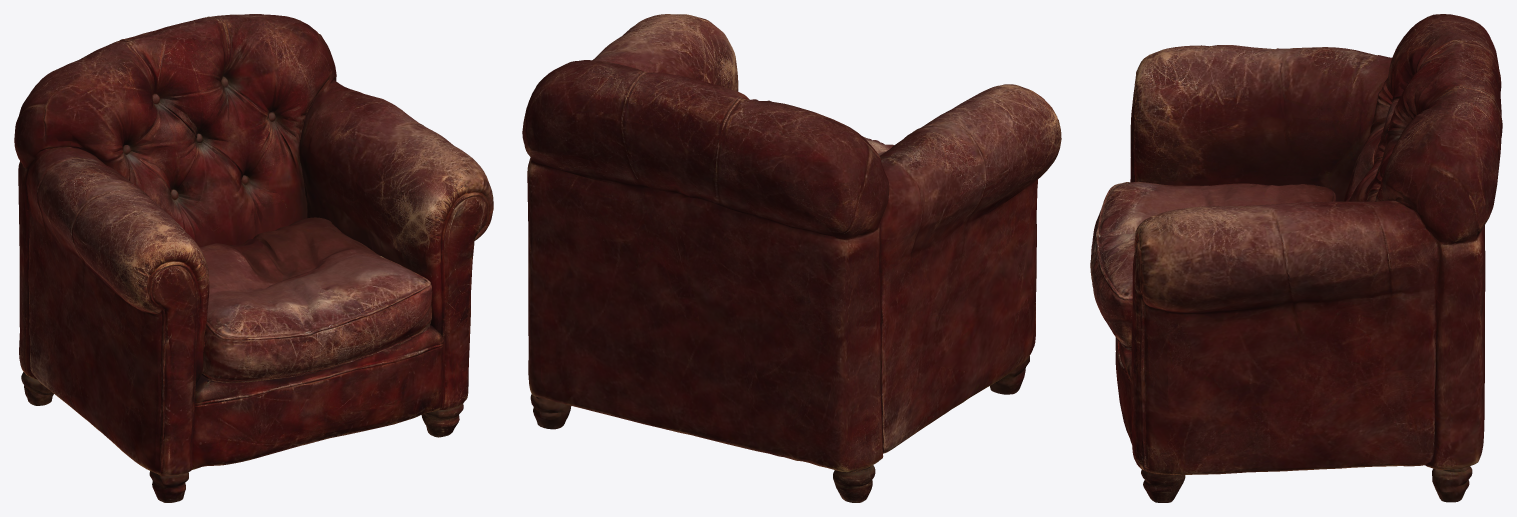
The model's file is w5oldchair.glb.
3 views of the same model, side by side, from view 1: azimuth 30°, elevation 25°; view 2: azimuth 150°, elevation 25°; view 3: azimuth 270°, elevation 25° (orthographic). The views are drawn at different scales.
Parts seen in each view (by area): view 1: output_unwrapped; view 2: output_unwrapped; view 3: output_unwrapped.
Part boxes in pixels (x1,y1,x2,y2): output_unwrapped: (14, 14, 493, 502); output_unwrapped: (522, 14, 1061, 502); output_unwrapped: (1090, 14, 1502, 502).
Size of the model in its own units: 0.95 by 0.822 by 0.8376.
1 material, 1 textured.
